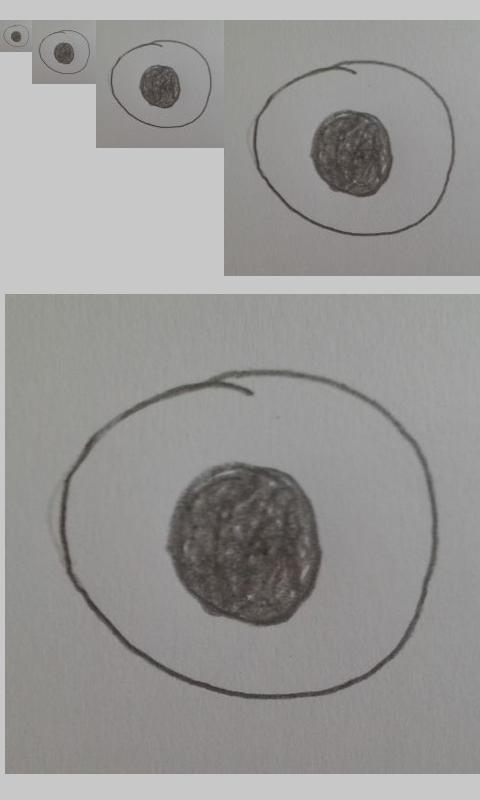radio_button: (57, 366, 441, 702), (252, 59, 458, 239), (110, 39, 212, 129), (38, 29, 91, 75), (2, 24, 30, 48)
